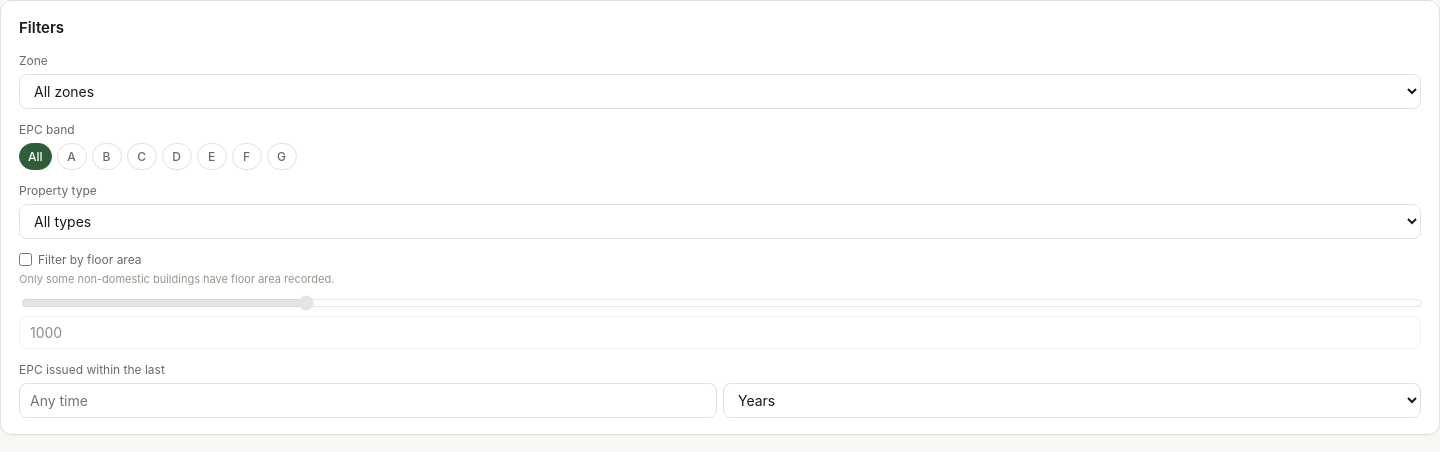
Test: FilterPanel › floor area inputs are disabled until the 'Filter by floor area' checkbox is ticked
The image size is (1440, 452).
Expected: the slider is disabled, top-left (21, 295), bottom-right (1423, 311)
Expected: the 1st number field is disabled, top-left (19, 316), bottom-right (1421, 349)
Click the checkbox labelled "Filter by floor area" at (26, 260), box top-left (19, 253), bottom-right (32, 266)
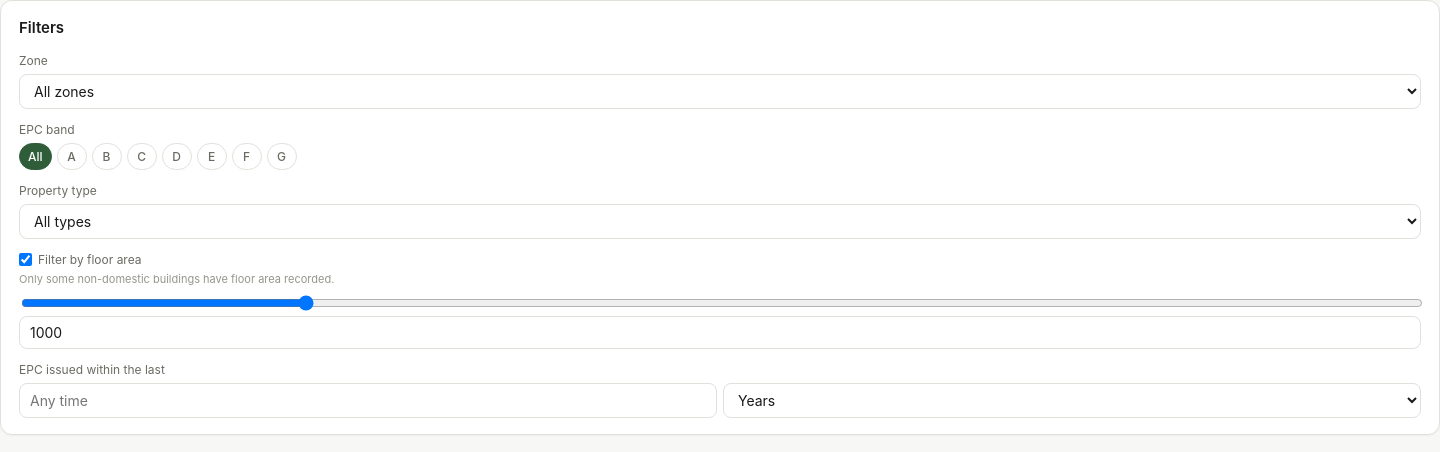
Expected: the slider is enabled, top-left (21, 295), bottom-right (1423, 311)
Expected: the 1st number field is enabled, top-left (19, 316), bottom-right (1421, 349)
